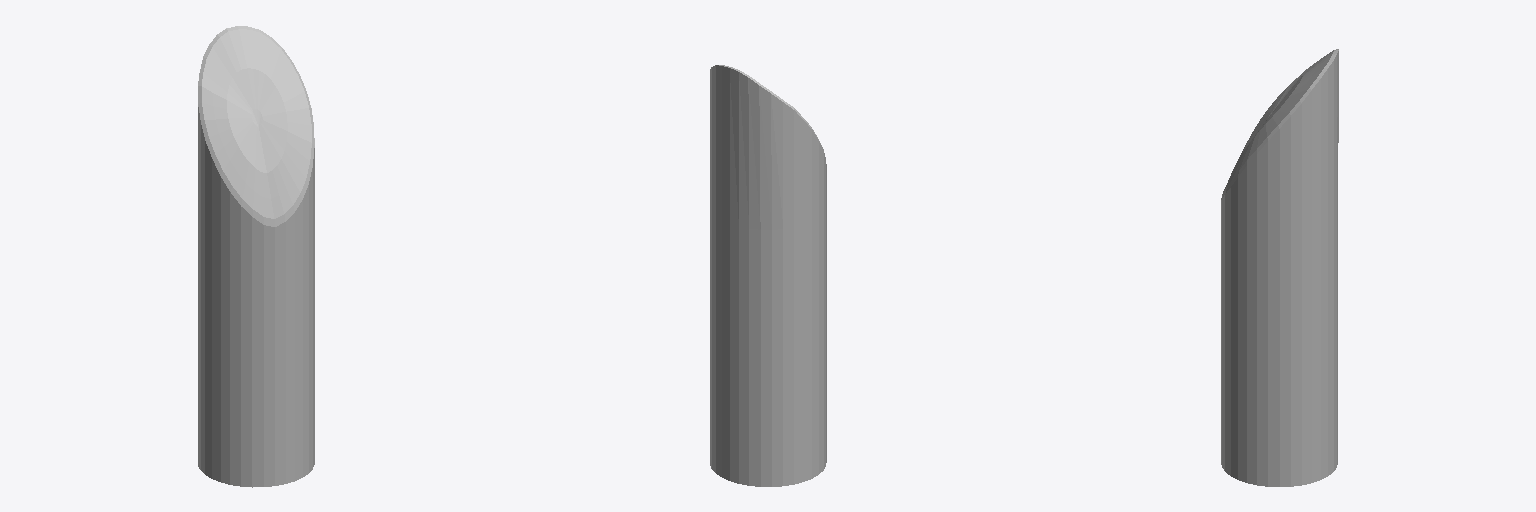
The model's file is molkkyHigh.obj.
3 renders of one model, left to right at view 1: azimuth 30°, elevation 25°; view 2: azimuth 150°, elevation 25°; view 3: azimuth 270°, elevation 25°, orthographic.
Visible parts, largest first — view 1: Cylinder.001; view 2: Cylinder.001; view 3: Cylinder.001.
Boxes of the visible parts, box(x1,y1,x2,y2) form: Cylinder.001: box(198, 26, 314, 487); Cylinder.001: box(710, 65, 826, 486); Cylinder.001: box(1221, 49, 1338, 486).
Size of the model in its own units: 0.4975 by 1.94 by 0.5011.